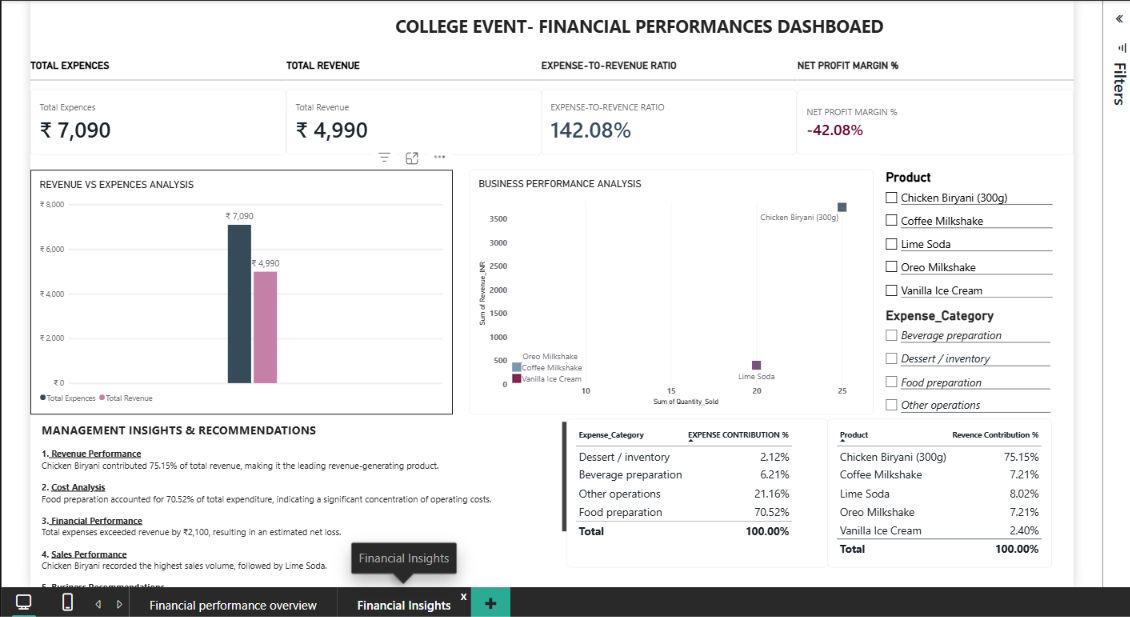

The dashboard page shown, as its layout file describes it:
{"tool":"powerbi","page":{"name":"Financial Insights ","canvas":[1920,1080],"ordinal":1},"visuals":[{"type":"tableEx","fields":{"Values":["SalesTable.Product","SalesTable.Revence Contribution %"]},"box":[1467.6,769.1,412.6,273.3],"z":0},{"type":"tableEx","fields":{"Values":["ExpenseTable.Expense_Category","ExpenseTable.EXPENSE CONTRIBUTION %"]},"box":[986.3,769.1,481.4,273.3],"z":1000},{"type":"cardVisual","title":"EXPENSE-TO-REVENUE RATIO","fields":{"Data":["SalesTable.EXPENSE-TO-REVENCE RATIO"]},"box":[941,108.6,470,175.5],"z":2000},{"type":"cardVisual","title":"NET PROFIT MARGIN %","fields":{"Data":["SalesTable.NET PROFIT MARGIN %"]},"box":[1411.5,108.6,508.5,175.5],"z":3000},{"type":"cardVisual","title":"TOTAL REVENUE ","fields":{"Data":["SalesTable.Total Revenue"]},"box":[470.5,108.6,470,175.5],"z":4000},{"type":"cardVisual","title":"TOTAL EXPENCES ","fields":{"Data":["SalesTable.Total Expences"]},"box":[0,108.6,470,175.5],"z":5000},{"type":"clusteredColumnChart","title":"REVENUE VS EXPENCES ANALYSIS ","fields":{"Y":["SalesTable.Total Expences","SalesTable.Total Revenue"]},"box":[0,311.3,776.3,450.6],"z":6000},{"type":"scatterChart","title":"BUSINESS PERFORMANCE ANALYSIS ","fields":{"Category":["SalesTable.Product"],"X":["Sum(SalesTable.Quantity_Sold)"],"Y":["Sum(SalesTable.Revenue_INR)"]},"box":[807.1,311.3,743.8,450.6],"z":7000},{"type":"textbox","box":[19.9,774.5,966.4,305.8],"z":8000},{"type":"slicer","fields":{"Values":["SalesTable.Product"]},"box":[1565.4,311.3,314.9,253.4],"z":9000},{"type":"slicer","fields":{"Values":["ExpenseTable.Expense_Category"]},"box":[1565.4,564.6,311.3,229.8],"z":10000},{"type":"textbox","box":[671.4,23.5,955.5,47.1],"z":11000}]}

Visuals, with their boxes on the page's 1920x1080 design canvas (x1, y1, x2, y2). These are canvas units, not pixel positions in the 1130x617 screenshot, which may show the page scaled, cropped or inside an application window:
tableEx - SalesTable.Product x SalesTable.Revence Contribution %: detection(1468, 769, 1880, 1042)
tableEx - ExpenseTable.Expense_Category x ExpenseTable.EXPENSE CONTRIBUTION %: detection(986, 769, 1468, 1042)
"EXPENSE-TO-REVENUE RATIO" cardVisual: detection(941, 109, 1411, 284)
"NET PROFIT MARGIN %" cardVisual: detection(1412, 109, 1920, 284)
"TOTAL REVENUE " cardVisual: detection(470, 109, 940, 284)
"TOTAL EXPENCES " cardVisual: detection(0, 109, 470, 284)
"REVENUE VS EXPENCES ANALYSIS " clusteredColumnChart: detection(0, 311, 776, 762)
"BUSINESS PERFORMANCE ANALYSIS " scatterChart: detection(807, 311, 1551, 762)
textbox: detection(20, 774, 986, 1080)
slicer - SalesTable.Product: detection(1565, 311, 1880, 565)
slicer - ExpenseTable.Expense_Category: detection(1565, 565, 1877, 794)
textbox: detection(671, 24, 1627, 71)
